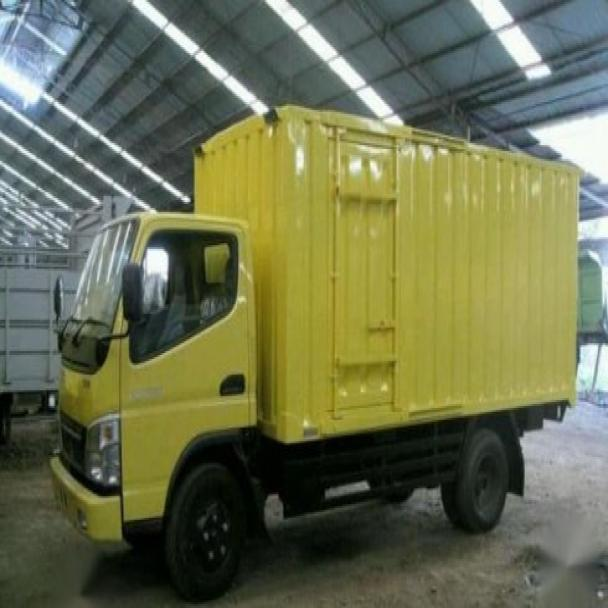Mobil: (46, 100, 583, 578)
